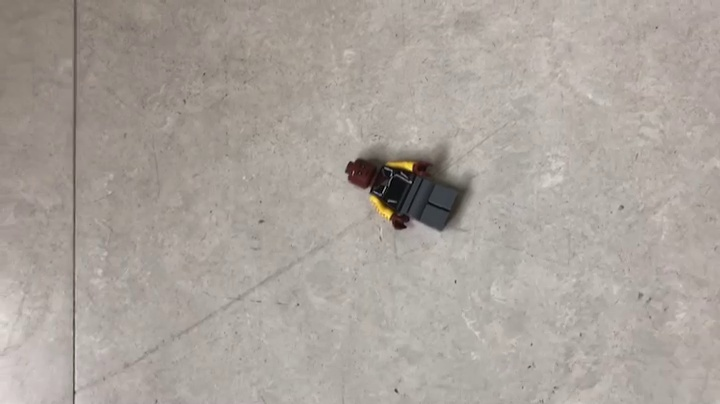people: (344, 158, 464, 233)
